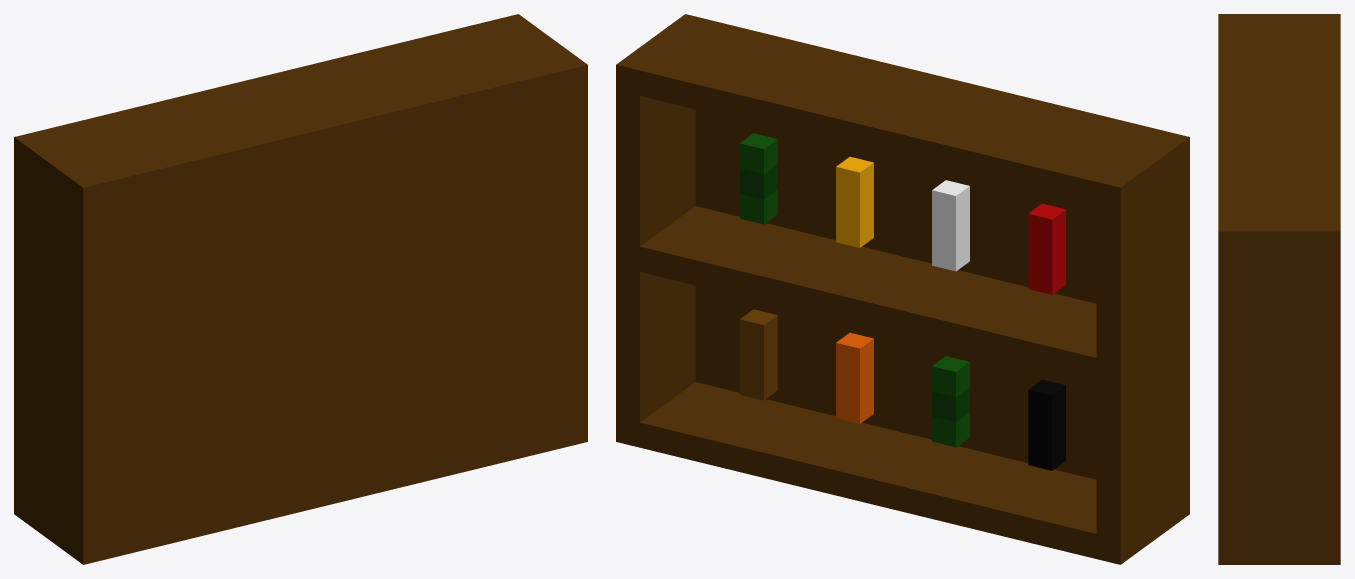
File: Spice Rack - Spices.obj
The picture shows the model from 3 angles, left to right: view 1: azimuth 30°, elevation 25°; view 2: azimuth 150°, elevation 25°; view 3: azimuth 270°, elevation 25°; orthographic projection. The views are drawn at different scales.
Bounding box in the file's own units: 2.1 × 1.5 × 0.5.
Materials: 1 (1 with a texture image).
